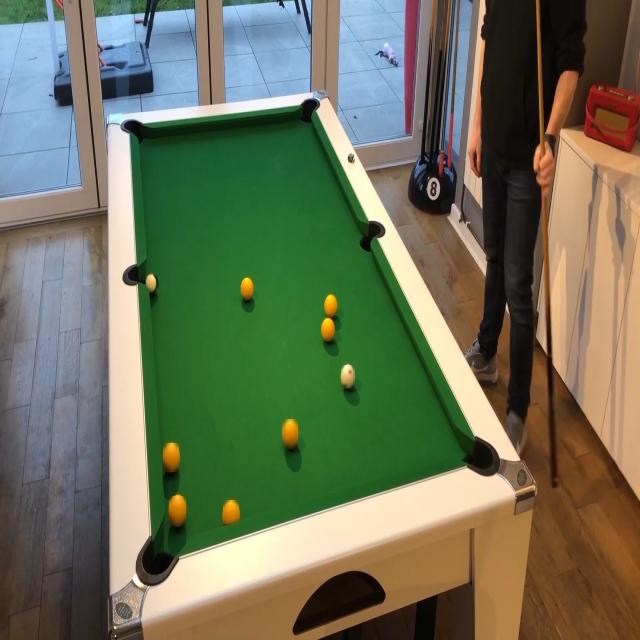Ball: (169, 496, 186, 526), (282, 419, 298, 449), (163, 443, 179, 472), (223, 500, 239, 524), (321, 318, 335, 342), (341, 365, 355, 388), (240, 278, 254, 300), (324, 294, 337, 316), (146, 274, 158, 294)
Billiard table: (107, 89, 537, 640)
